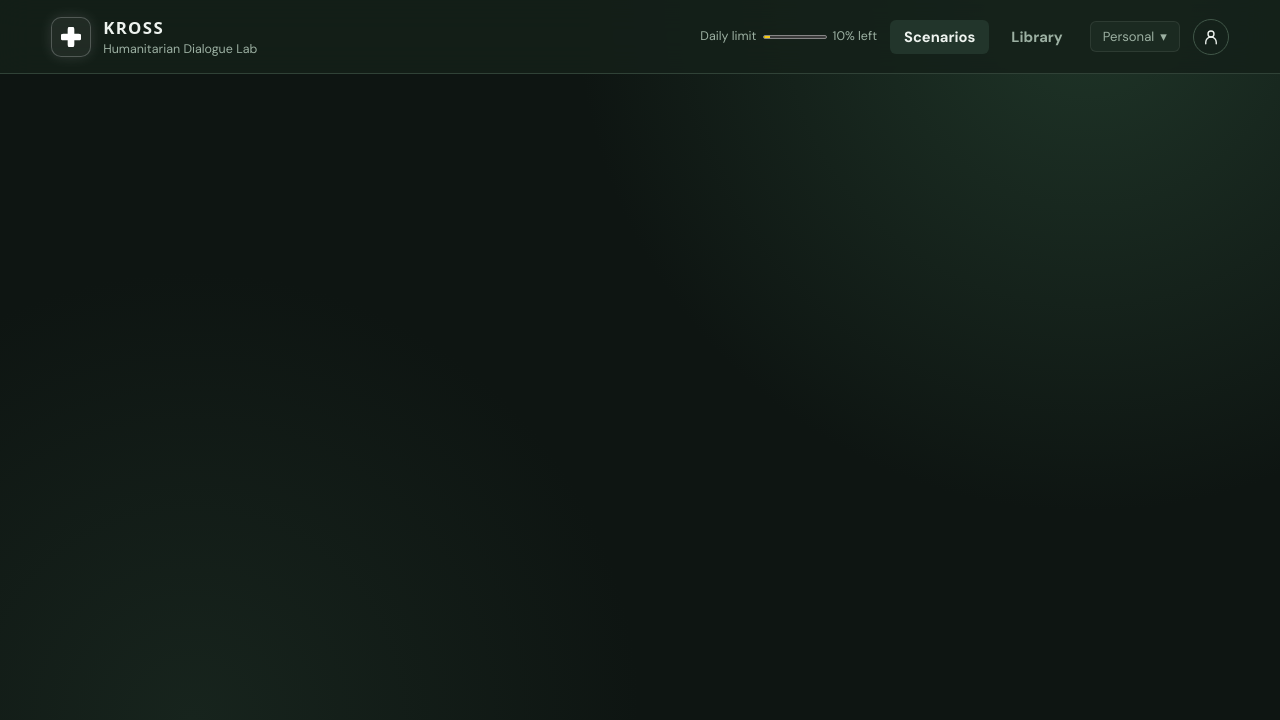
Layout › closes the switcher with Escape, focus back on the toggle
The width and height of the screenshot is (1280, 720).
Click the button with aria-label "Organisation: Personal" at (1135, 36), box [1090,21,1180,52]
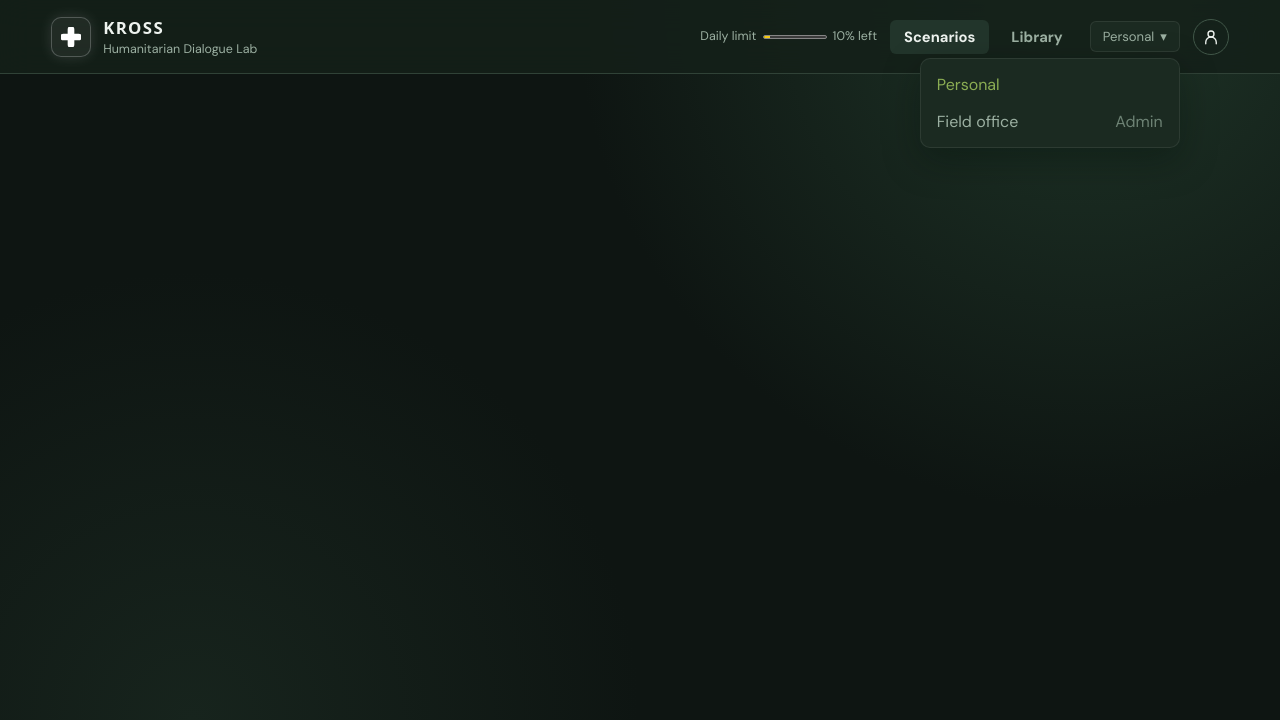
expect the button "Field office Admin" is shown: met, box [929,104,1171,139]
Press Escape
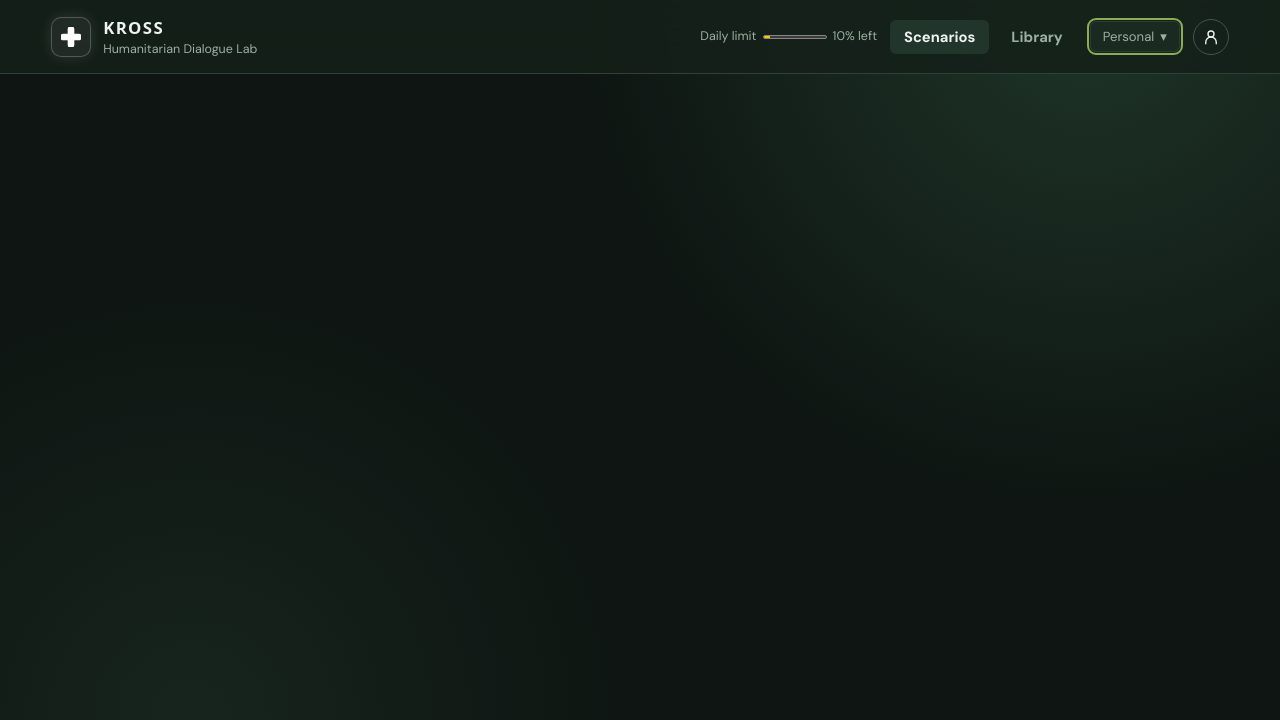
expect the button "Field office Admin" is gone: met
